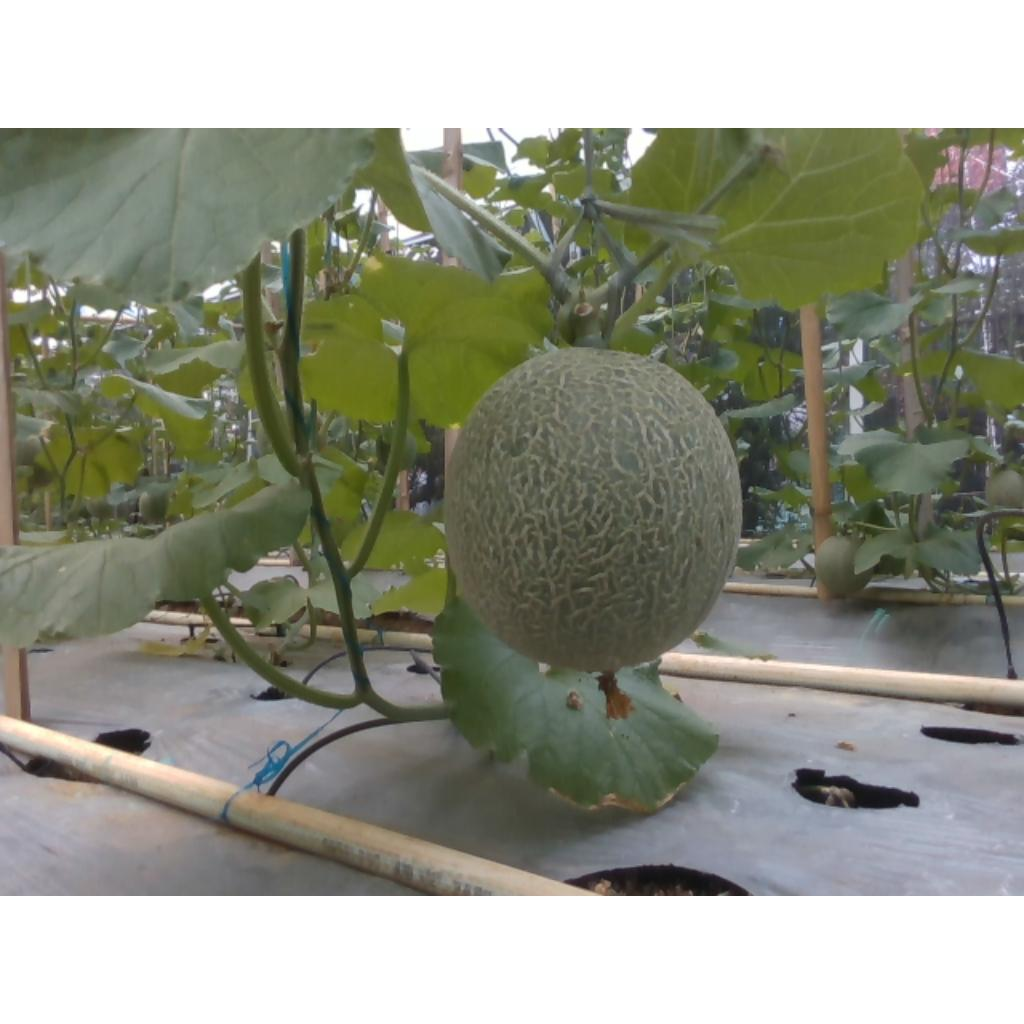melon: (448, 347, 744, 671)
